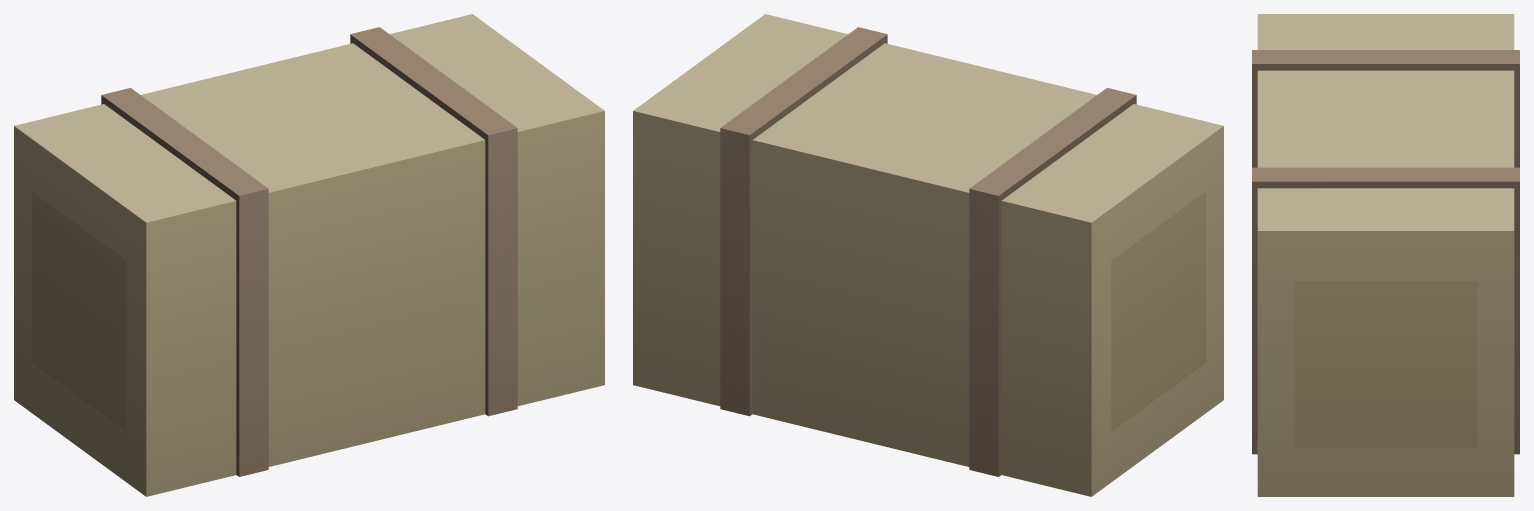
The model's file is hay.lod1.glb.
The picture shows the model from 3 angles, left to right: view 1: azimuth 30°, elevation 25°; view 2: azimuth 150°, elevation 25°; view 3: azimuth 270°, elevation 25°; orthographic projection. The views are drawn at different scales.
Size of the model in its own units: 1.41 by 0.82 by 0.73.
